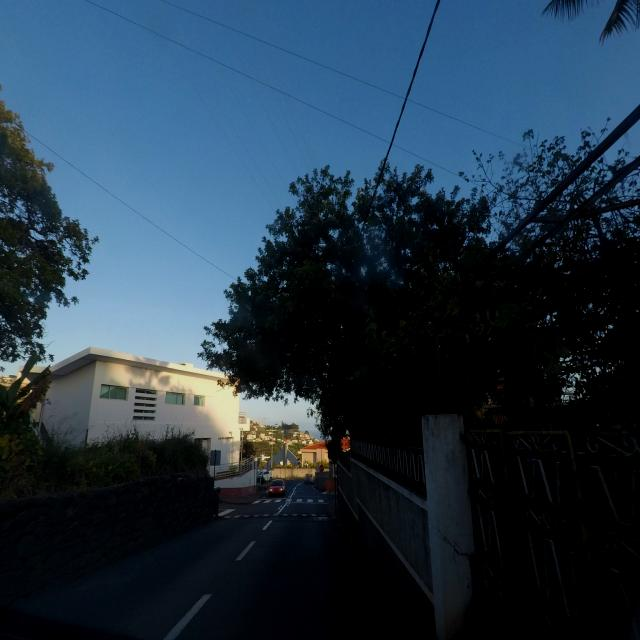car: (267, 478, 286, 498)
